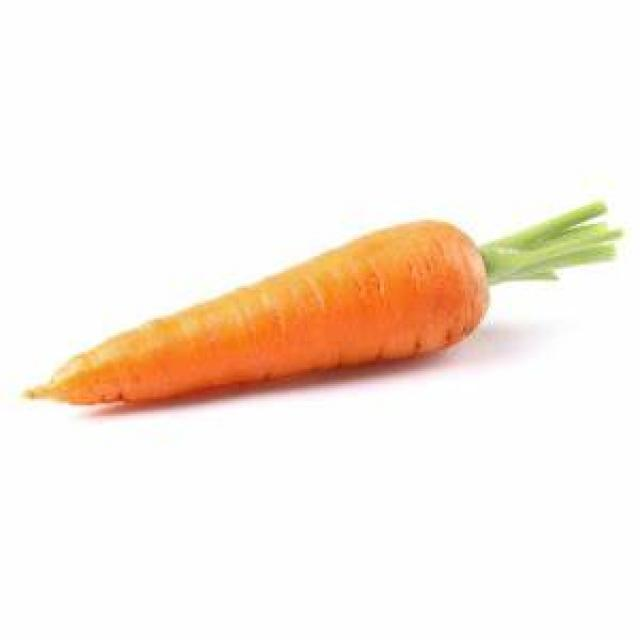Carrot: (23, 199, 627, 424)
